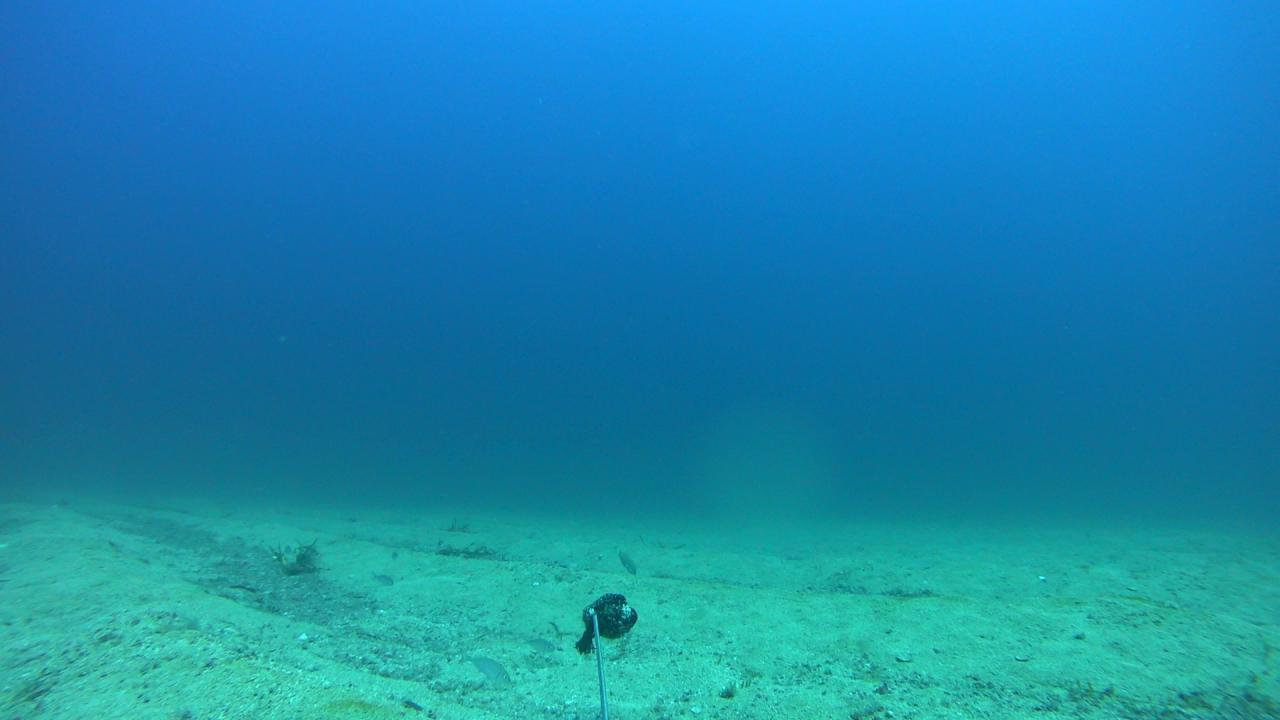pagellus: (457, 651, 511, 685), (520, 636, 556, 656), (370, 570, 398, 589)
